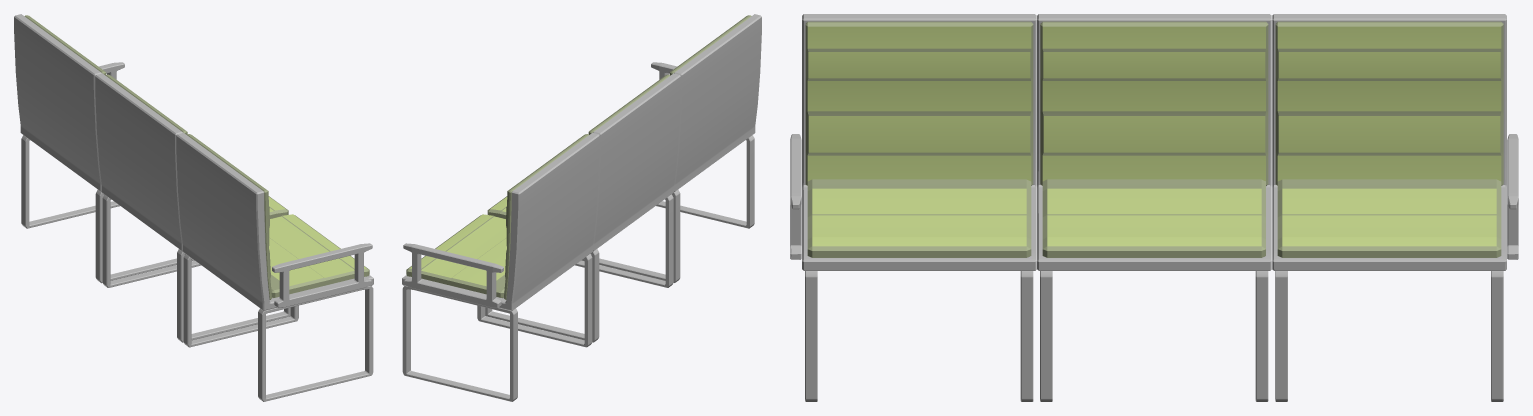
File: AirportTripleChair.fbx
3 renders of one model, left to right at view 1: azimuth 30°, elevation 25°; view 2: azimuth 150°, elevation 25°; view 3: azimuth 270°, elevation 25°, orthographic. The views are drawn at different scales.
Parts seen in each view (by area): view 1: AirportSeat4; view 2: AirportSeat4; view 3: AirportSeat4.
Part boxes in pixels (box(x1,y1,x2,y2)): AirportSeat4: box(14, 14, 373, 401); AirportSeat4: box(402, 14, 761, 401); AirportSeat4: box(790, 14, 1518, 401).
Bounding box in the file's own units: 25.99 × 44.57 × 95.94.
